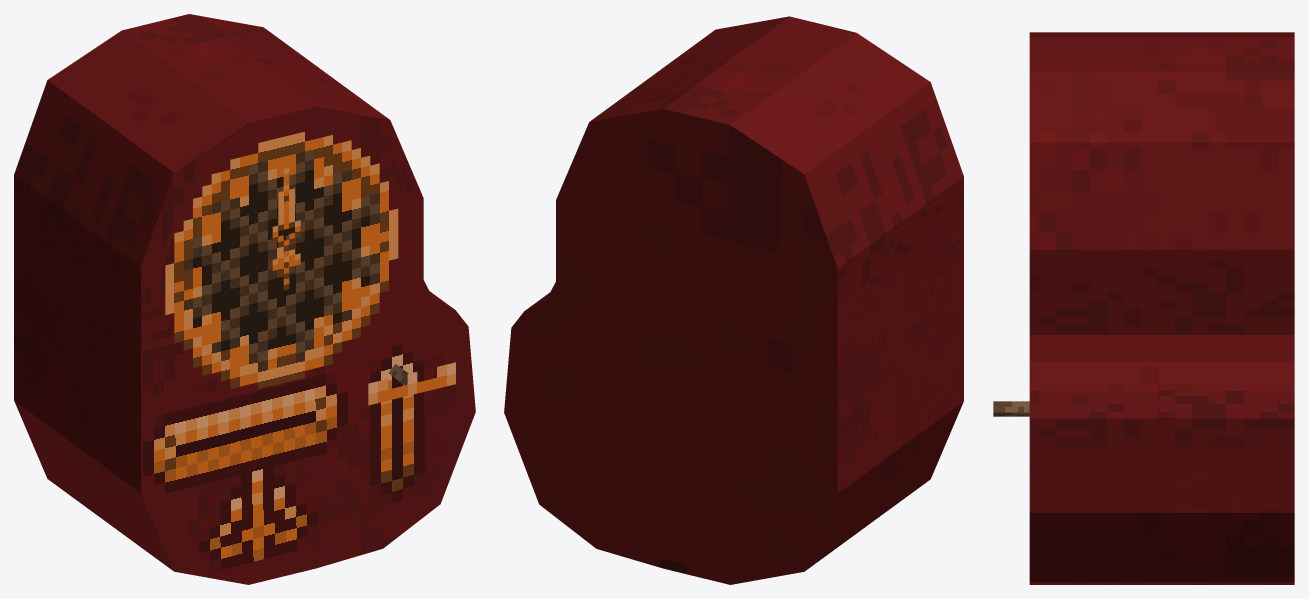
The model's file is PunchInMachine.fbx.
3 renders of one model, left to right at view 1: azimuth 30°, elevation 25°; view 2: azimuth 150°, elevation 25°; view 3: azimuth 270°, elevation 25°, orthographic. The views are drawn at different scales.
Visible parts, largest first — view 1: PunchIn; view 2: PunchIn; view 3: PunchIn.
Part boxes in pixels (x1=…): PunchIn: x1=14, y1=14, x2=475, y2=584; PunchIn: x1=504, y1=16, x2=963, y2=584; PunchIn: x1=993, y1=32, x2=1294, y2=584.
Size of the model in its own units: 30.41 by 40.05 by 22.74.
Materials: 2 (2 with a texture image).
